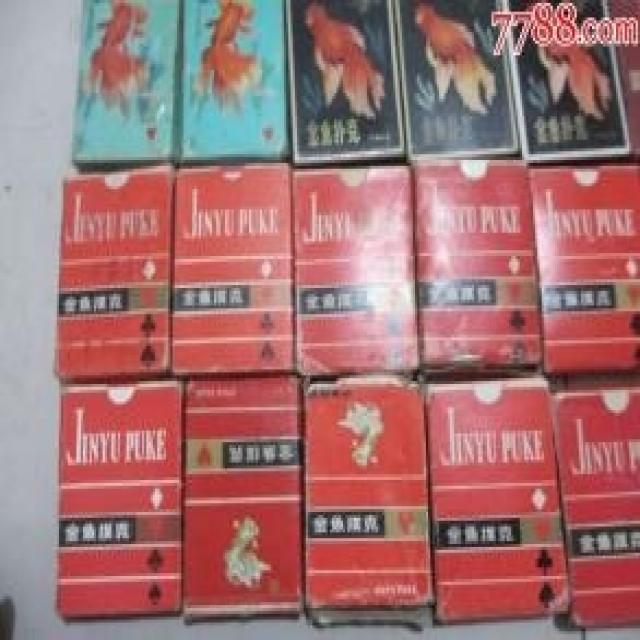box: (422, 369, 568, 623), (299, 372, 437, 628), (55, 381, 183, 623), (181, 369, 301, 625), (411, 160, 542, 372), (291, 166, 419, 378), (170, 163, 295, 378), (57, 160, 175, 387), (526, 163, 640, 372), (548, 381, 640, 631), (500, 0, 631, 163), (391, 0, 520, 163), (284, 0, 406, 166), (175, 0, 291, 163), (72, 0, 181, 169), (609, 0, 640, 154)
